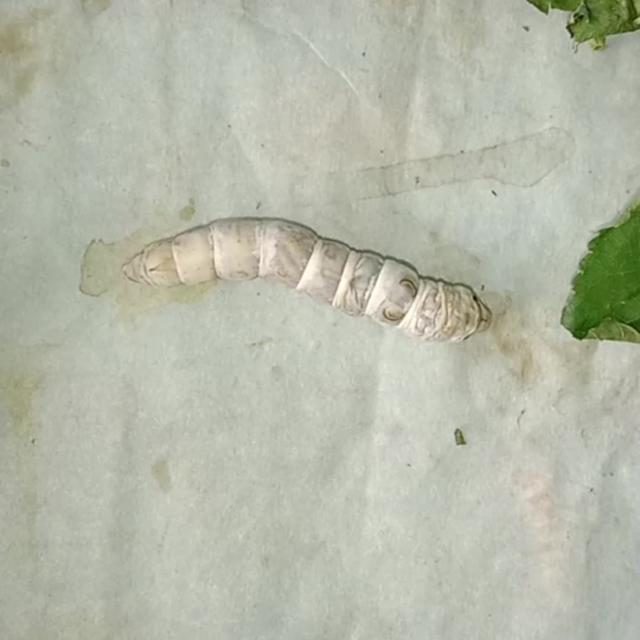Grasserie: (120, 204, 499, 357)
